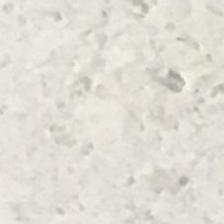Non_Crack: (25, 14, 224, 207)
